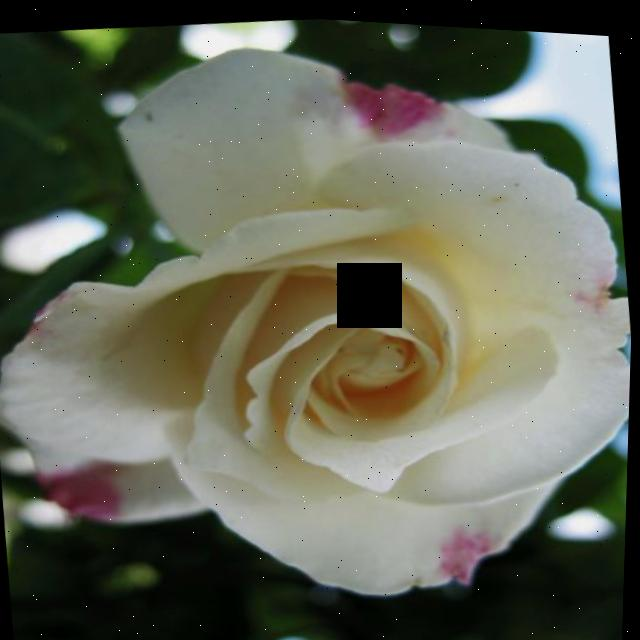rose: (0, 0, 640, 636)
